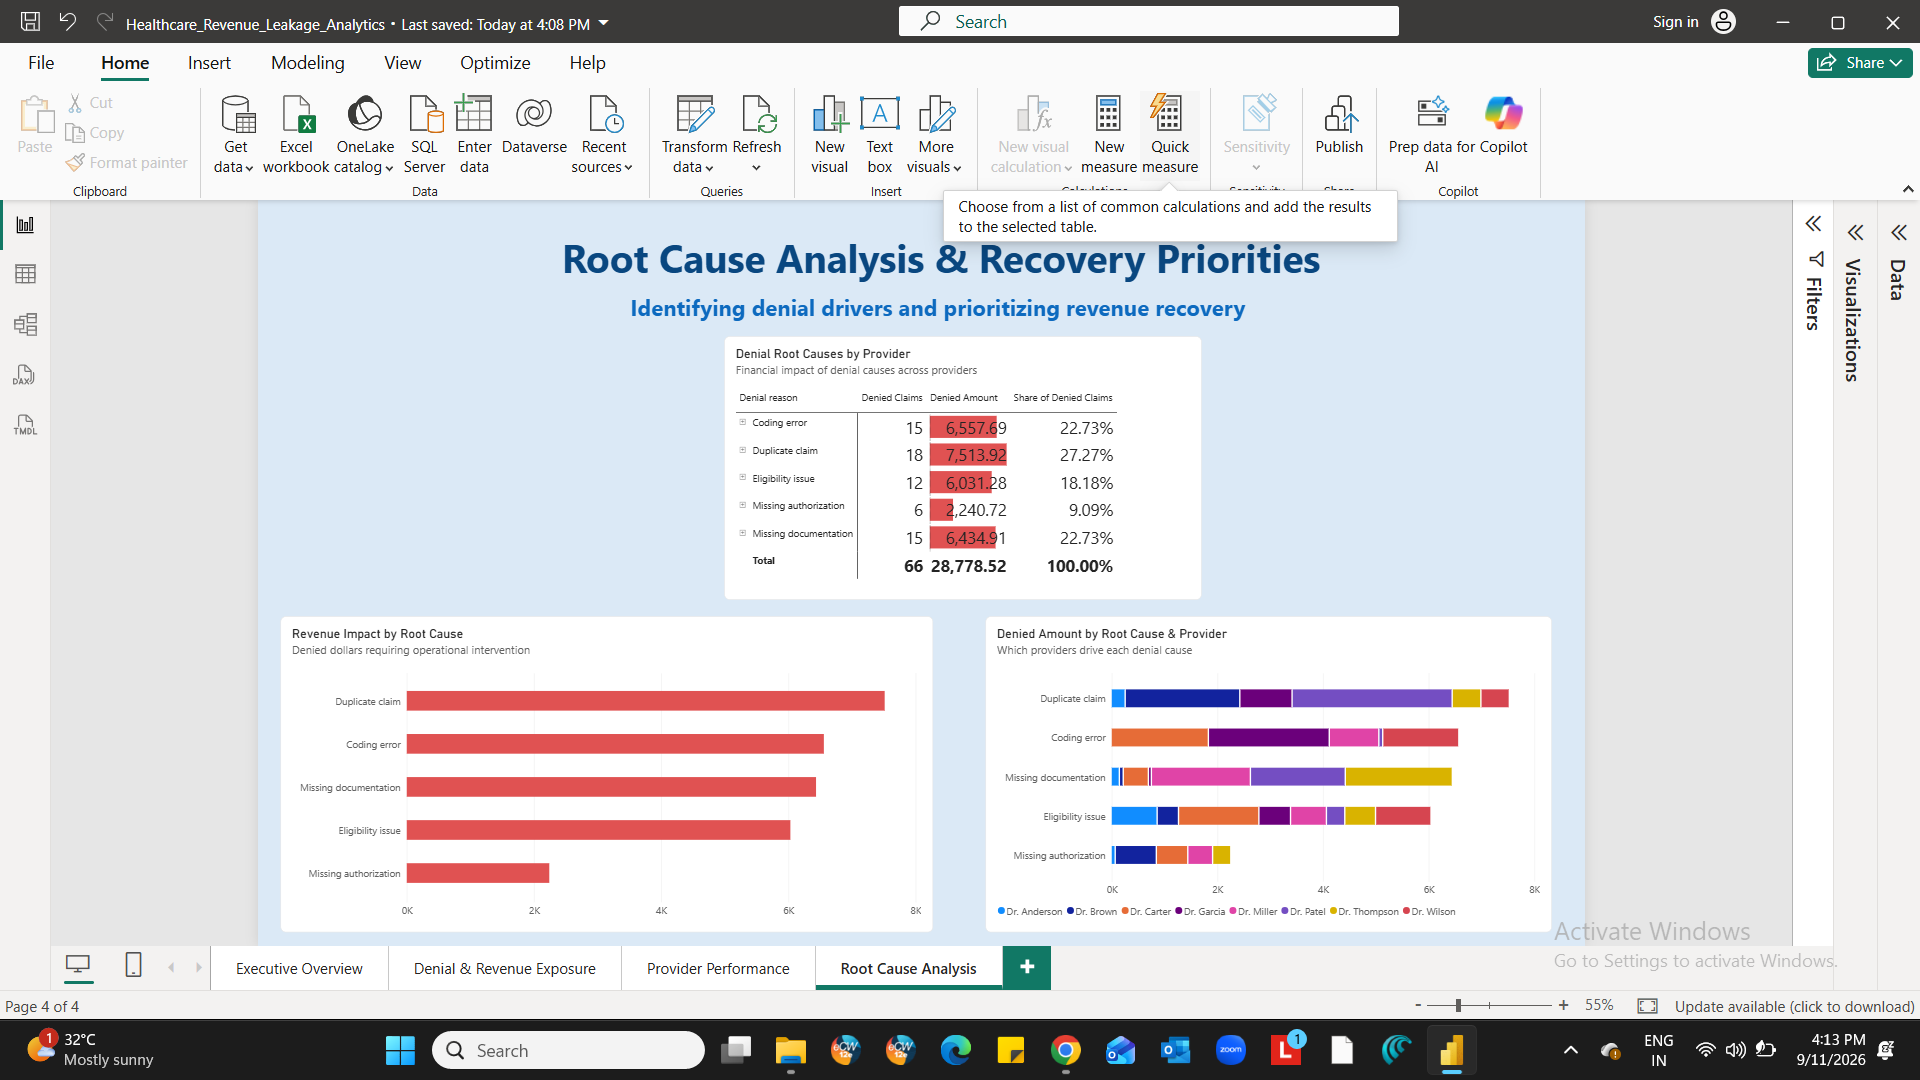

The page's visual inventory and layout, read from the dashboard file:
{"tool":"powerbi","page":{"name":"Root Cause Analysis","canvas":[1920,1080],"ordinal":3},"visuals":[{"type":"textbox","box":[439,44.8,1105.9,89.7],"z":3},{"type":"textbox","box":[539.9,134.5,973.3,63.5],"z":4},{"type":"pivotTable","title":"Denial Root Causes by Provider","fields":{"Rows":["claims.Denial reason","claims.provider"],"Values":["claims.Denied Claims","DateTable.Denied Amount","claims.Share of Denied Claims"]},"box":[675,197.3,691.3,381.8],"z":5},{"type":"clusteredBarChart","title":"Revenue Impact by Root Cause","fields":{"Category":["claims.Denial reason"],"Y":["DateTable.Denied Amount"]},"box":[32.6,602.6,944.6,457.8],"z":6},{"type":"barChart","title":"Denied Amount by Root Cause & Provider","fields":{"Category":["claims.Denial reason"],"Series":["claims.provider"],"Y":["DateTable.Denied Amount"]},"box":[1053.2,602.6,819.8,457.8],"z":7}]}

Visuals, with their boxes on the page's 1920x1080 design canvas (x1, y1, x2, y2). These are canvas units, not pixel positions in the 1920x1080 screenshot, which may show the page scaled, cropped or inside an application window:
textbox: bbox=(439, 45, 1545, 134)
textbox: bbox=(540, 134, 1513, 198)
"Denial Root Causes by Provider" pivotTable: bbox=(675, 197, 1366, 579)
"Revenue Impact by Root Cause" clusteredBarChart: bbox=(33, 603, 977, 1060)
"Denied Amount by Root Cause & Provider" barChart: bbox=(1053, 603, 1873, 1060)
